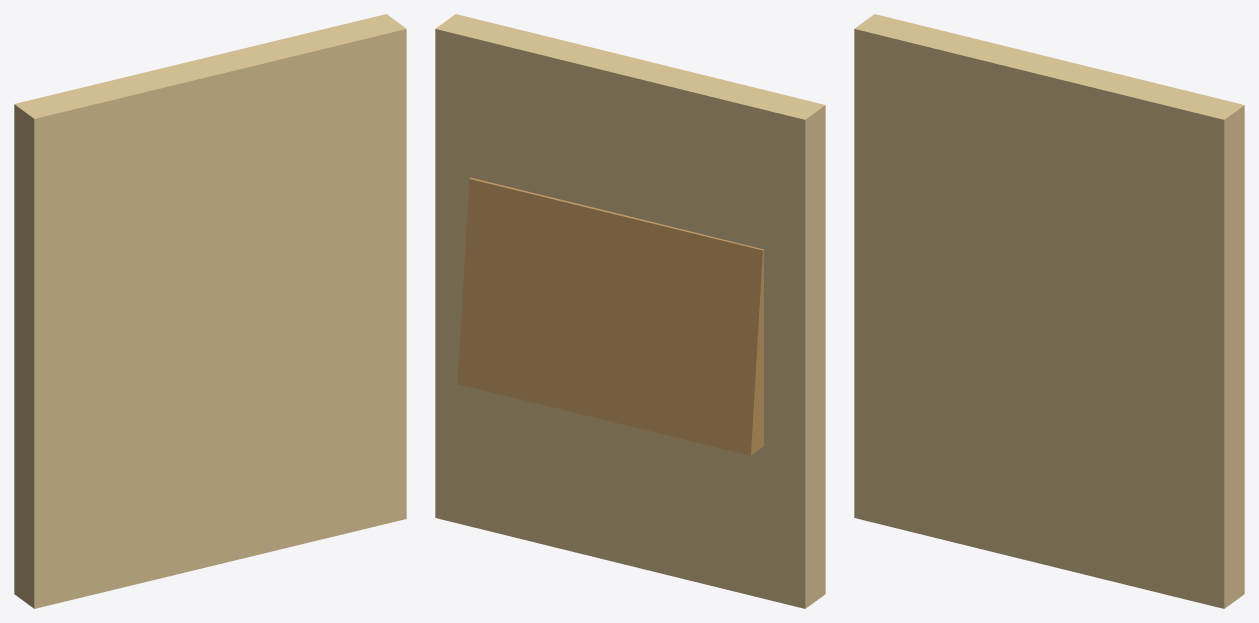
Rendered from button.fbx.
3 renders of one model, left to right at view 1: azimuth 30°, elevation 25°; view 2: azimuth 150°, elevation 25°; view 3: azimuth 330°, elevation 25°, orthographic.
Visible parts, largest first — view 1: original_2_obj; view 2: original_2_obj, original_1_obj; view 3: original_2_obj.
Part boxes in pixels (<box>): original_2_obj: <box>14,14,406,608</box>; original_2_obj: <box>435,14,825,608</box>; original_1_obj: <box>457,177,763,455</box>; original_2_obj: <box>854,14,1244,608</box>.
Size of the model in its own units: 1.26 by 1.59 by 0.202.
